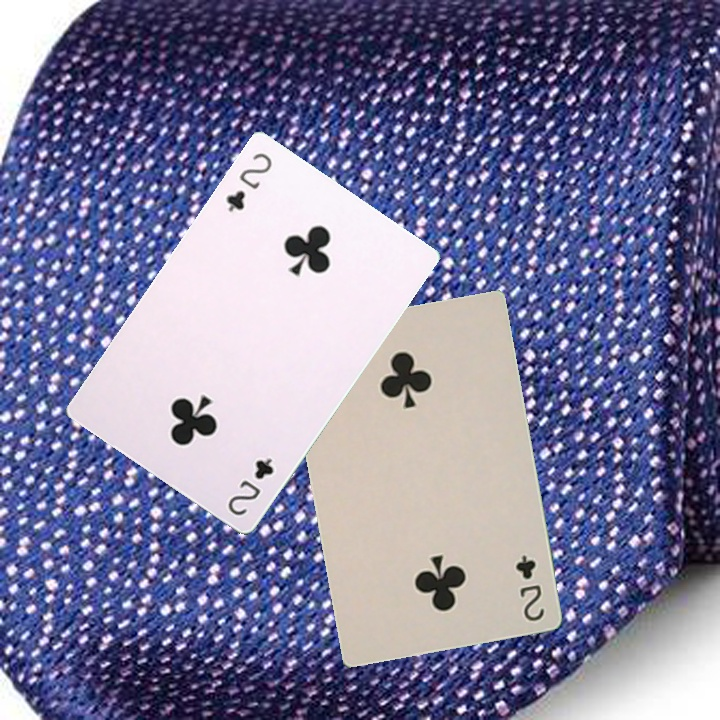2c: (221, 148, 275, 215), (223, 454, 276, 519), (511, 551, 547, 624)
